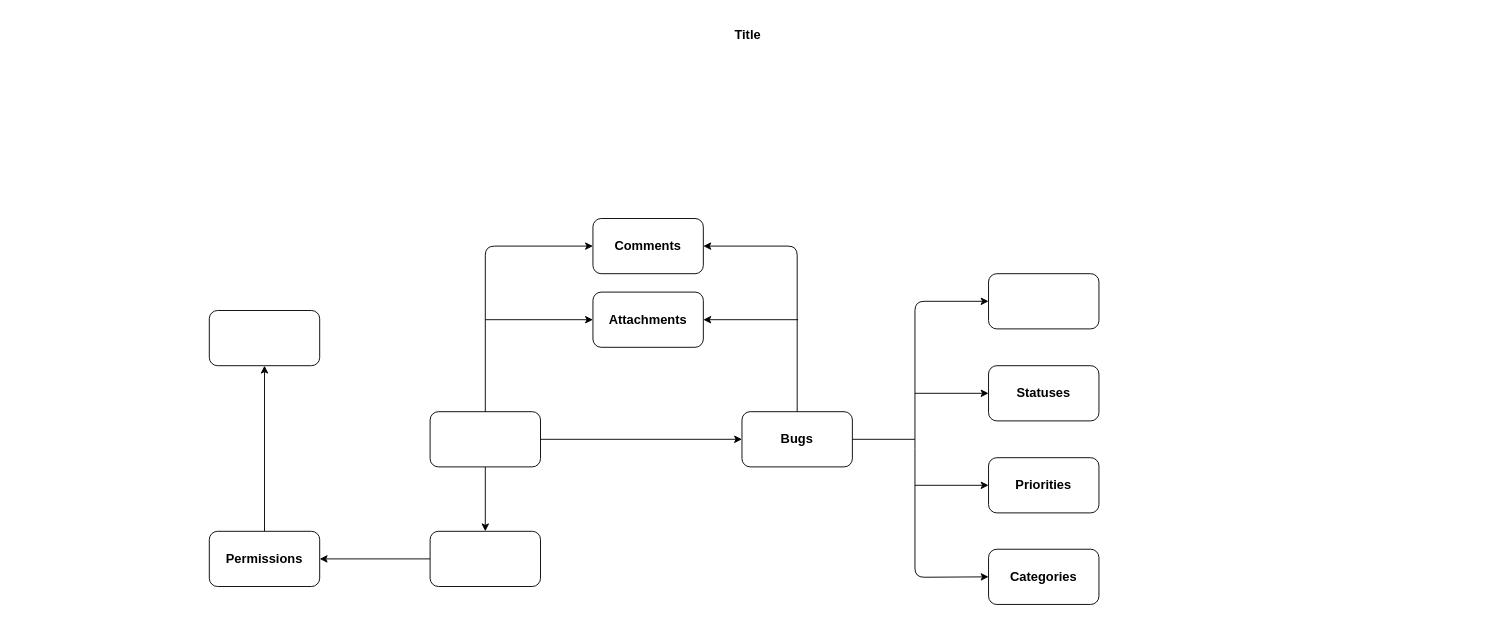
Image size: 1494x620. Some labels were removed from this diagram. Here are the shapes that lost their labels. From the top down, the centre of each, then its label:
point (1043, 301): Resolutions
point (264, 338): Actions
point (484, 439): Users
point (484, 558): Roles
